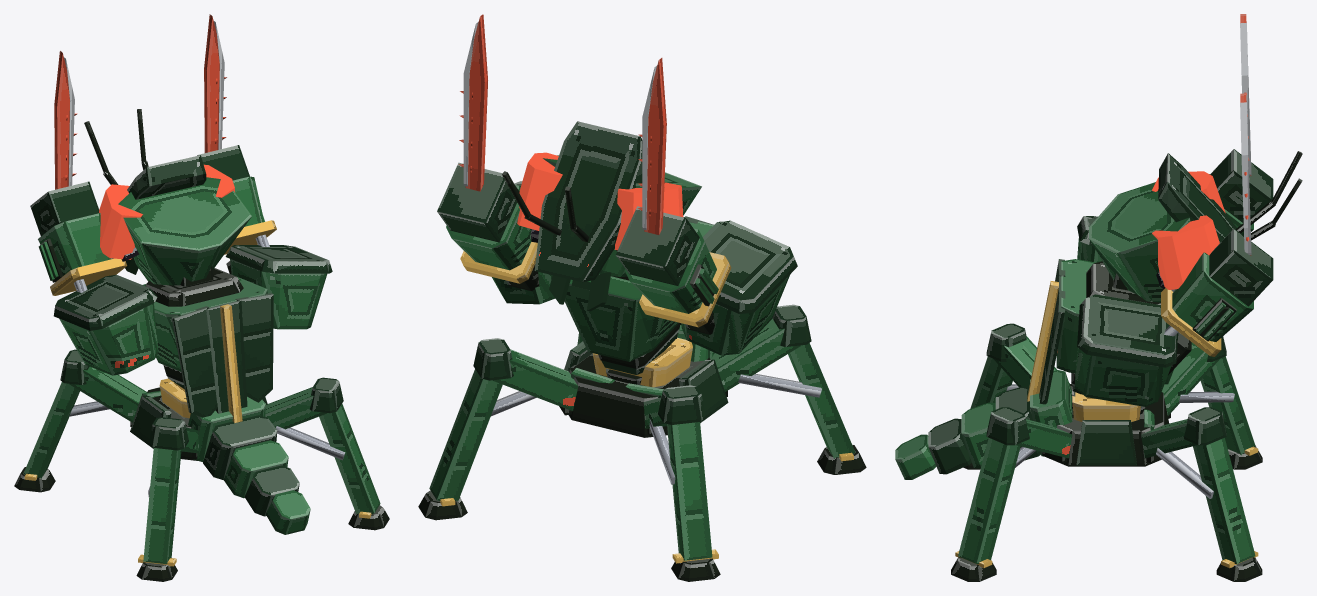
The model's file is bda-bastion.glb.
The picture shows the model from 3 angles, left to right: view 1: azimuth 30°, elevation 25°; view 2: azimuth 150°, elevation 25°; view 3: azimuth 270°, elevation 25°; orthographic projection. The views are drawn at different scales.
Visible parts, largest first — view 1: bastion-22, object 4, object 9, object 26, object 11, object 8, object 24, object 19, object 23, object 27, object 12; view 2: bastion-22, object 9, object 24, object 11, object 26, object 4, object 19, object 8, object 23, object 27, object 12; view 3: bastion-22, object 24, object 19, object 9, object 23, object 27, object 12.
Boxes of the visible parts, x1,y1,x2,y2 form: bastion-22: (14,109,389,581); object 4: (38,213,112,275); object 9: (30,181,98,235); object 26: (204,14,219,152); object 11: (54,51,69,189); object 8: (50,258,126,295); object 24: (197,145,249,180); object 19: (233,176,264,226); object 23: (224,220,276,254); object 27: (213,21,224,149); object 12: (64,57,74,186); bastion-22: (418,121,866,581); object 9: (616,206,699,285); object 24: (437,162,519,242); object 11: (644,58,666,234); object 26: (465,14,487,191); object 4: (624,228,716,313); object 19: (446,185,531,270); object 8: (639,252,731,327); object 23: (460,242,537,283); object 27: (463,22,478,186); object 12: (642,65,657,230); bastion-22: (895,151,1302,581); object 24: (1209,228,1273,306); object 19: (1172,252,1253,341); object 9: (1210,149,1273,222); object 23: (1161,288,1221,356); object 27: (1240,102,1251,254); object 12: (1240,23,1251,175).
Size of the model in its own units: 1.36 by 2.22 by 1.78.
Materials: 94 (91 with a texture image).
